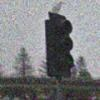traffic lights: (45, 12, 76, 78)
